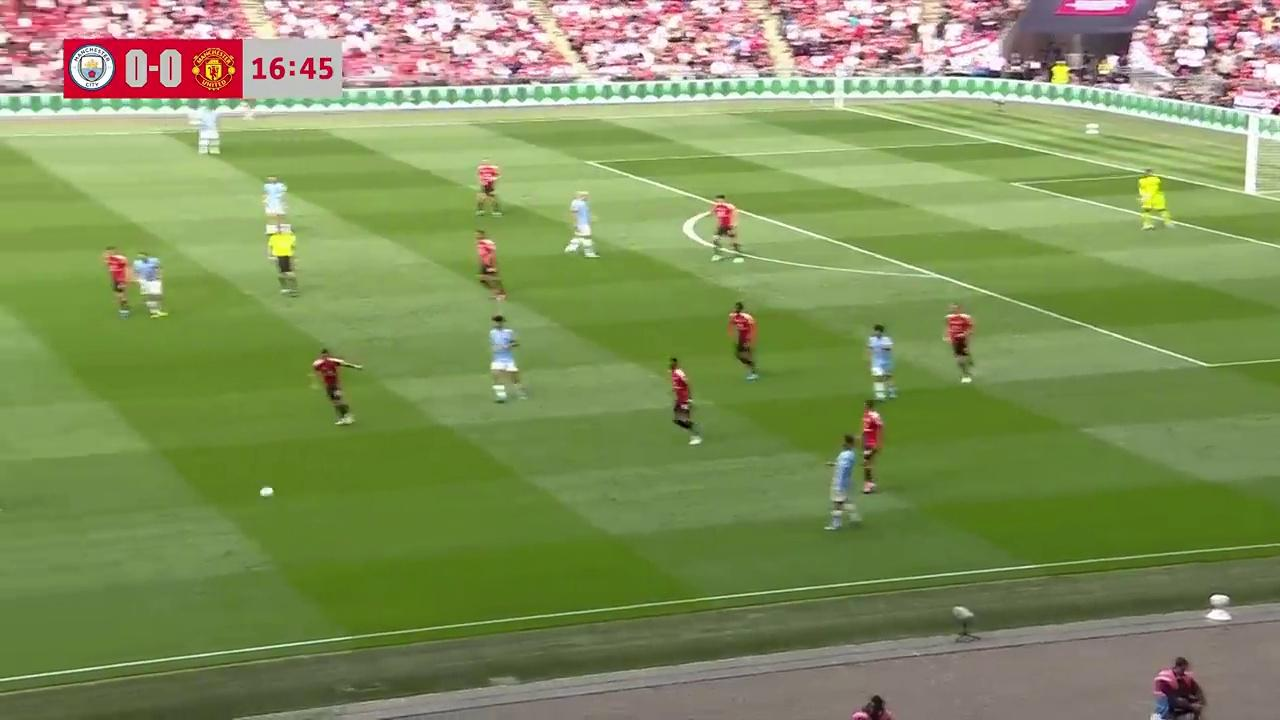ball: (257, 481, 276, 498)
player: (310, 348, 360, 425), (823, 433, 861, 532), (489, 313, 527, 403), (668, 357, 701, 445), (727, 302, 759, 381), (943, 303, 975, 382), (866, 323, 898, 400), (129, 252, 165, 318), (564, 191, 598, 257), (101, 246, 133, 316), (708, 195, 743, 259), (474, 231, 505, 300), (860, 401, 883, 492), (1137, 169, 1171, 230), (262, 175, 287, 234), (475, 160, 501, 216), (196, 109, 220, 155)
referee: (267, 222, 299, 295)
